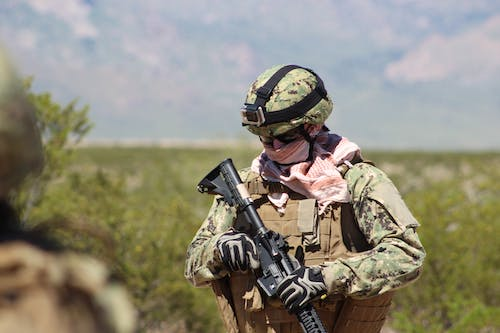gun: (195, 156, 328, 333)
